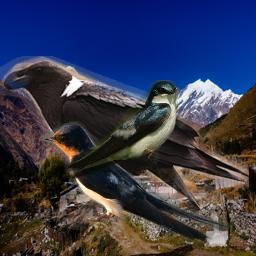Crow: (0, 56, 249, 230)
Swallow: (39, 119, 234, 243), (64, 80, 178, 181)
